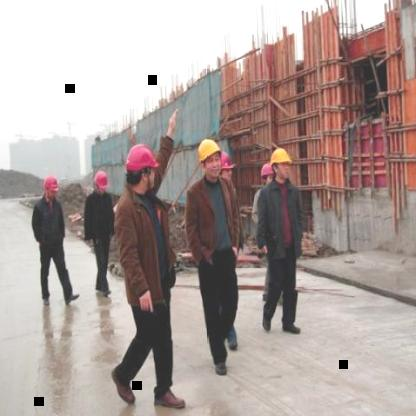helmet: (122, 142, 163, 175), (35, 167, 65, 201), (193, 134, 226, 164), (90, 166, 112, 194), (269, 145, 294, 169)
